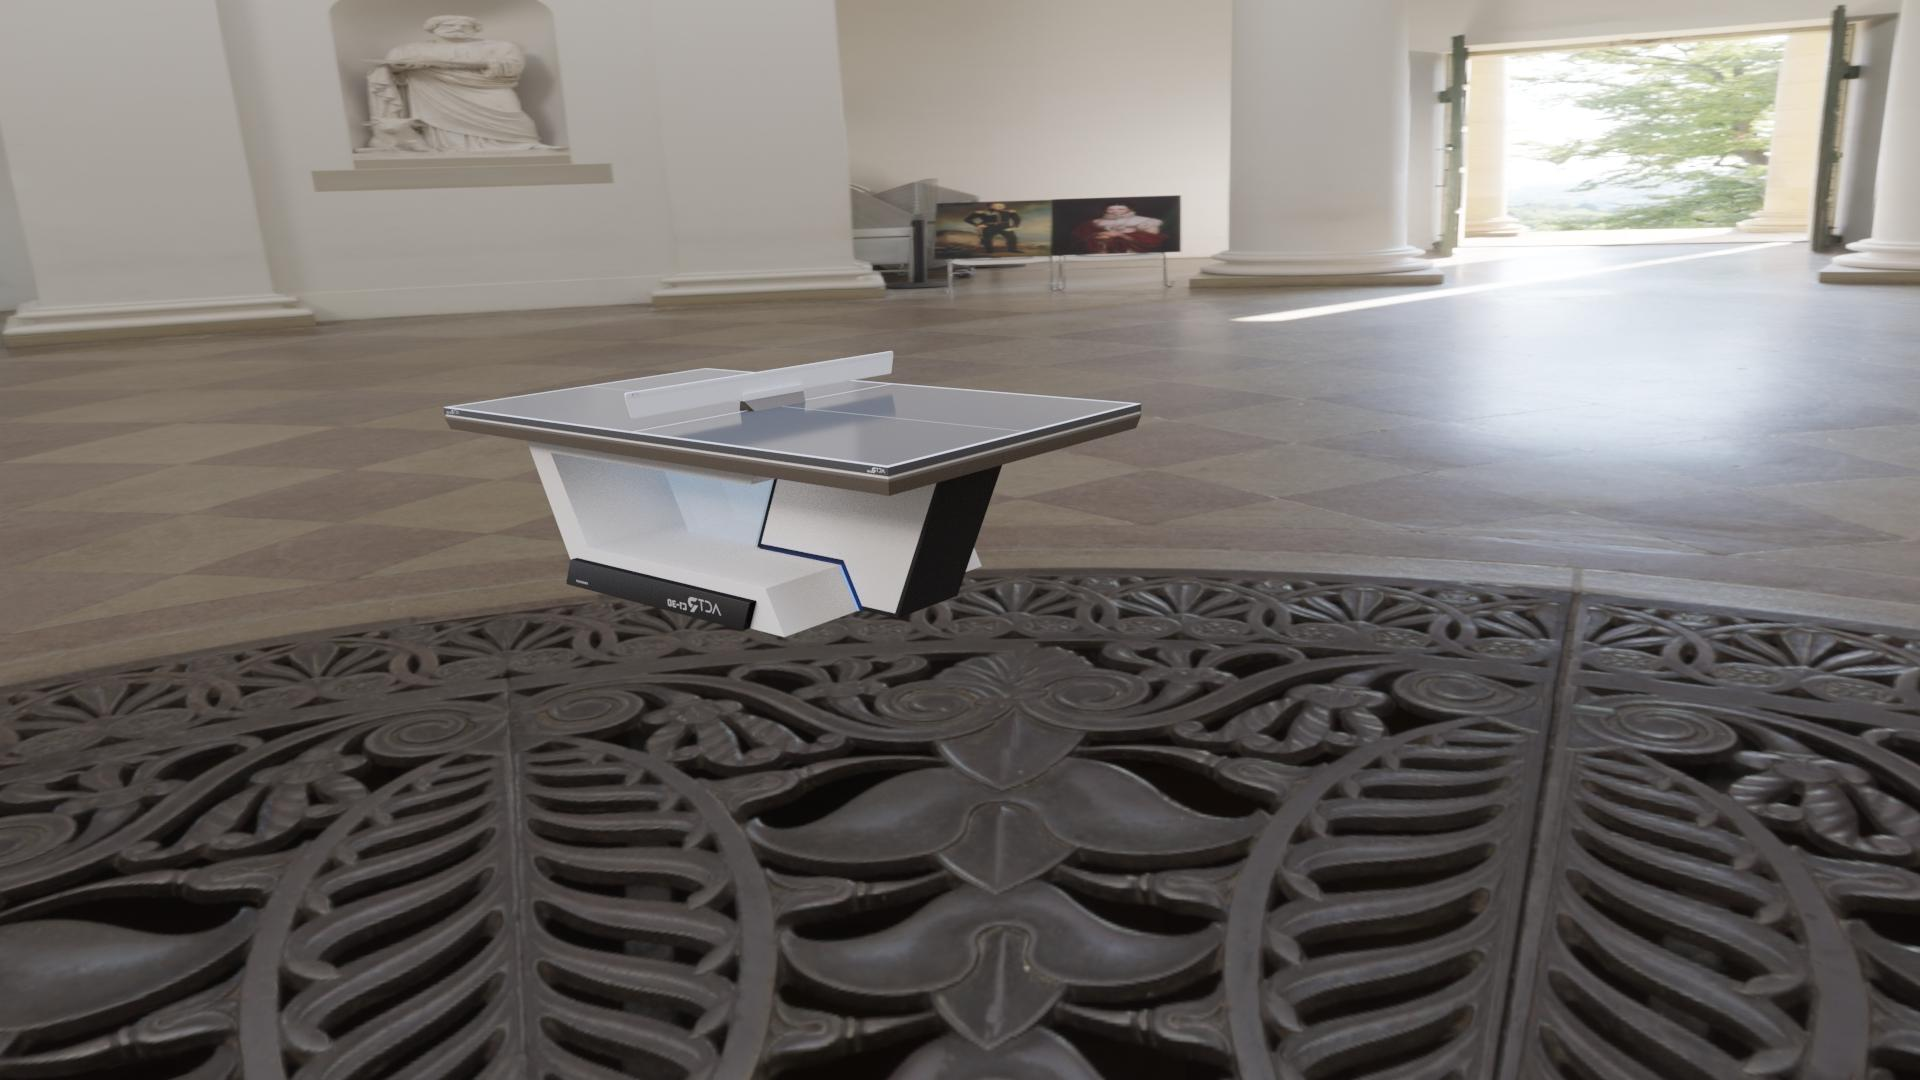table: (450, 369, 1134, 465)
